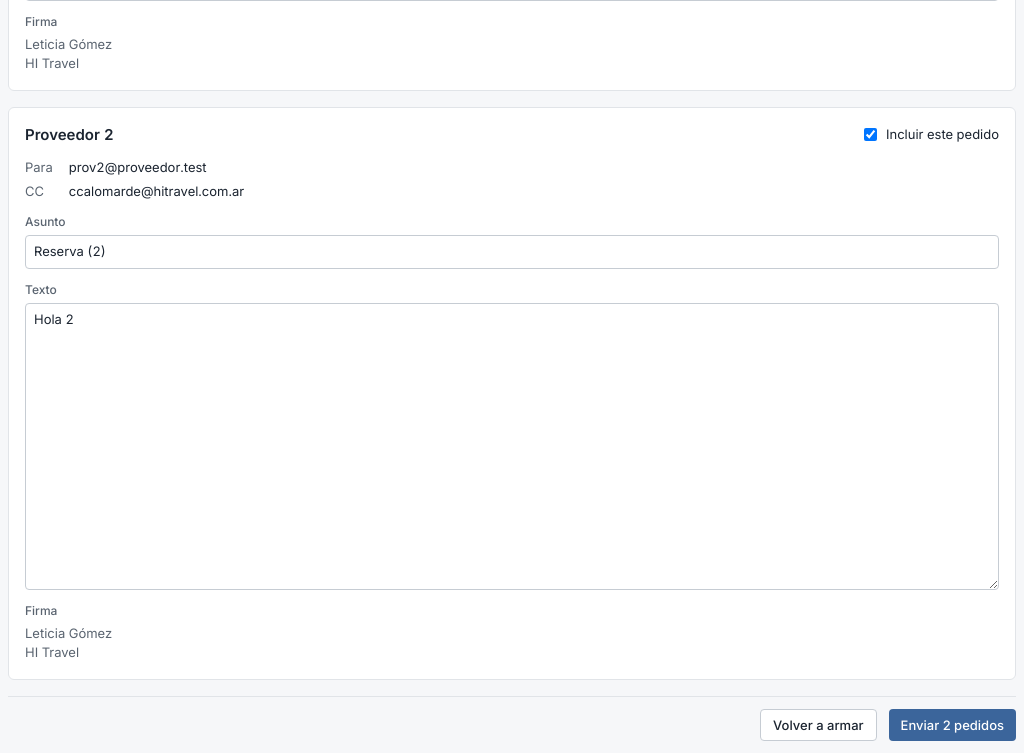
Test case: enviar desde el diálogo (filas 6, 7 y 10) › falta la casilla: el diálogo dice qué falta en llano y las tarjetas quedan como estaban
(page scrolled)
Click the button "Enviar 2 pedidos".
click(952, 724)  # box x1=889 y1=708 x2=1016 y2=740
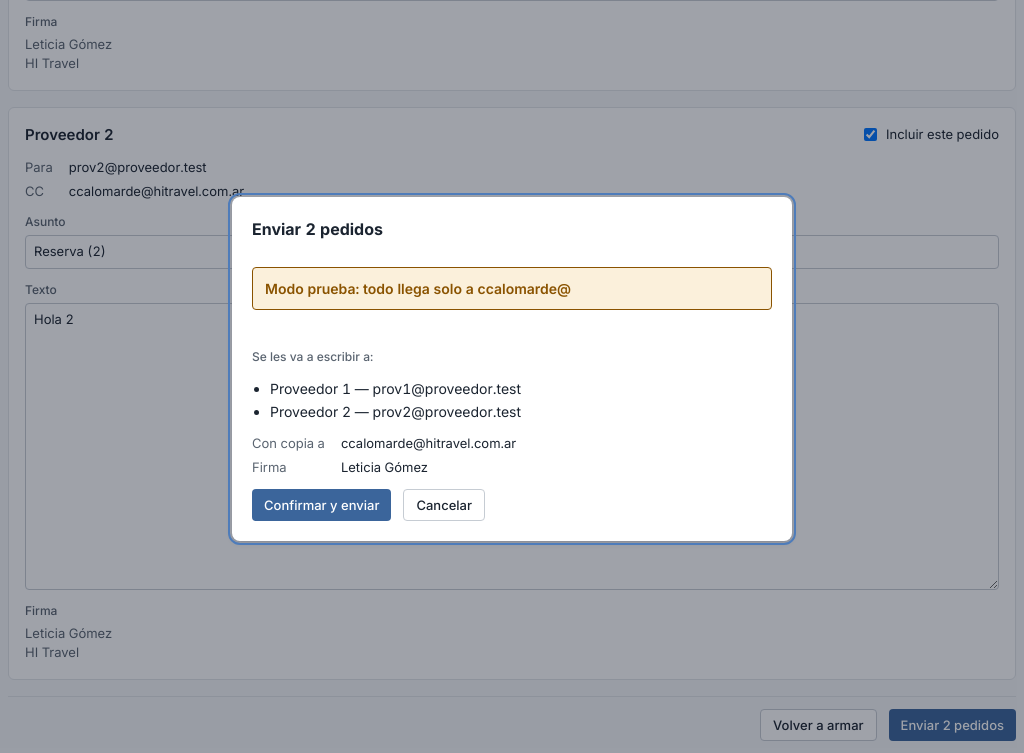
Click the button "Confirmar y enviar".
click(322, 505)  # box x1=252 y1=489 x2=391 y2=521
(page scrolled)
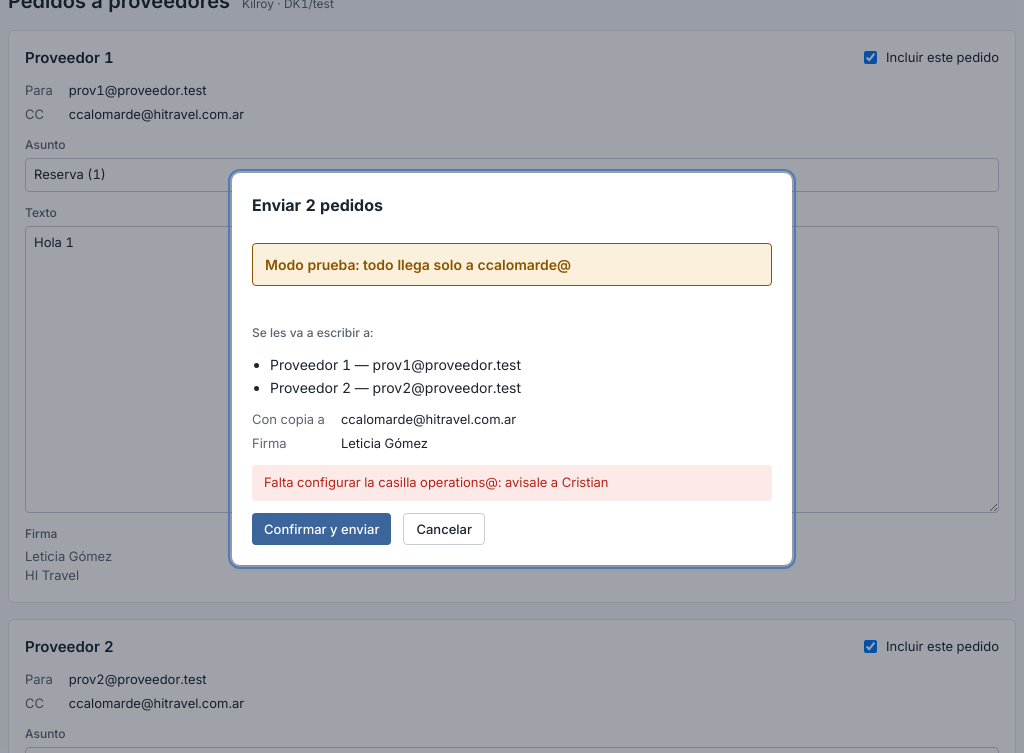
Expected: the text box labelled "Texto" is enabled, x1=25 y1=226 x2=999 y2=512
Now the text "Falta configurar la casilla operations@: avisale a Cristian" is shown, box x1=252 y1=465 x2=772 y2=501
